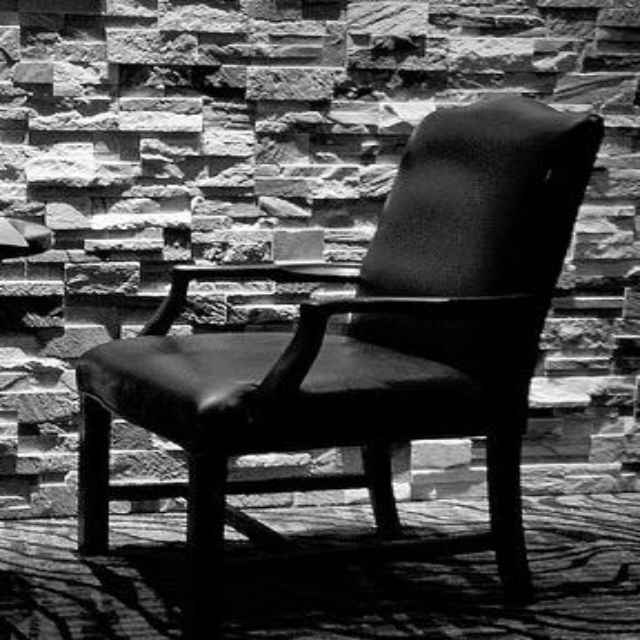obstacle: (78, 98, 602, 637)
